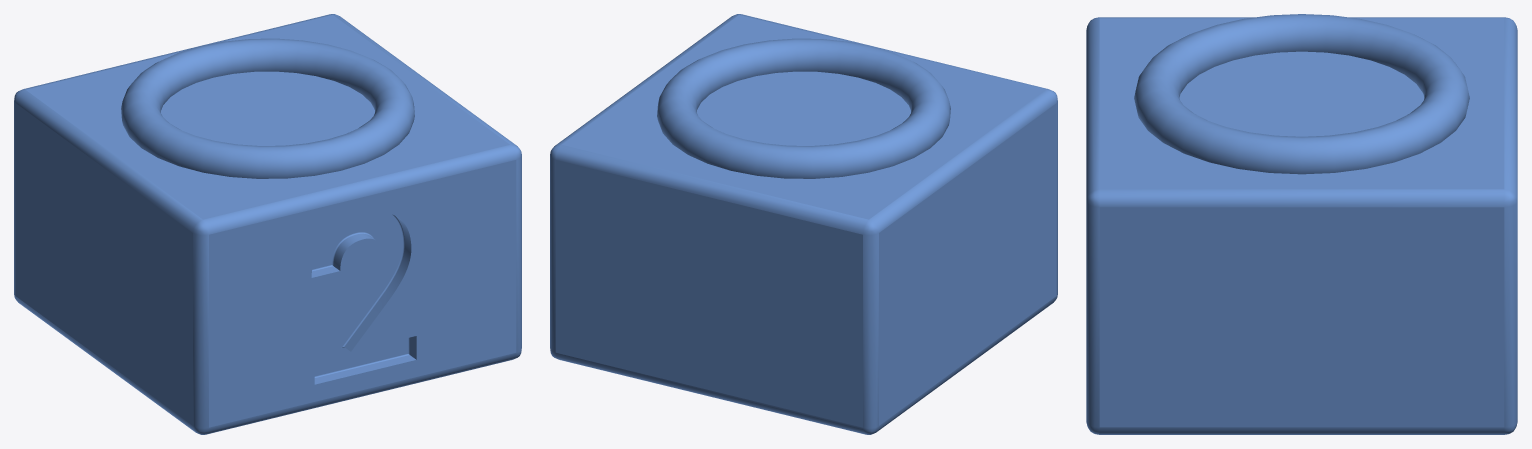
The model's file is Bouton.gltf.
3 views of the same model, side by side, from view 1: azimuth 30°, elevation 25°; view 2: azimuth 150°, elevation 25°; view 3: azimuth 270°, elevation 25° (orthographic). The views are drawn at different scales.
Visible parts, largest first — view 1: Bouton0; view 2: Bouton0; view 3: Bouton0.
Part boxes in pixels (<box>): Bouton0: <box>14,14,521,434</box>; Bouton0: <box>550,14,1057,434</box>; Bouton0: <box>1086,14,1517,434</box>.
Size of the model in its own units: 8 by 5.54 by 8.
